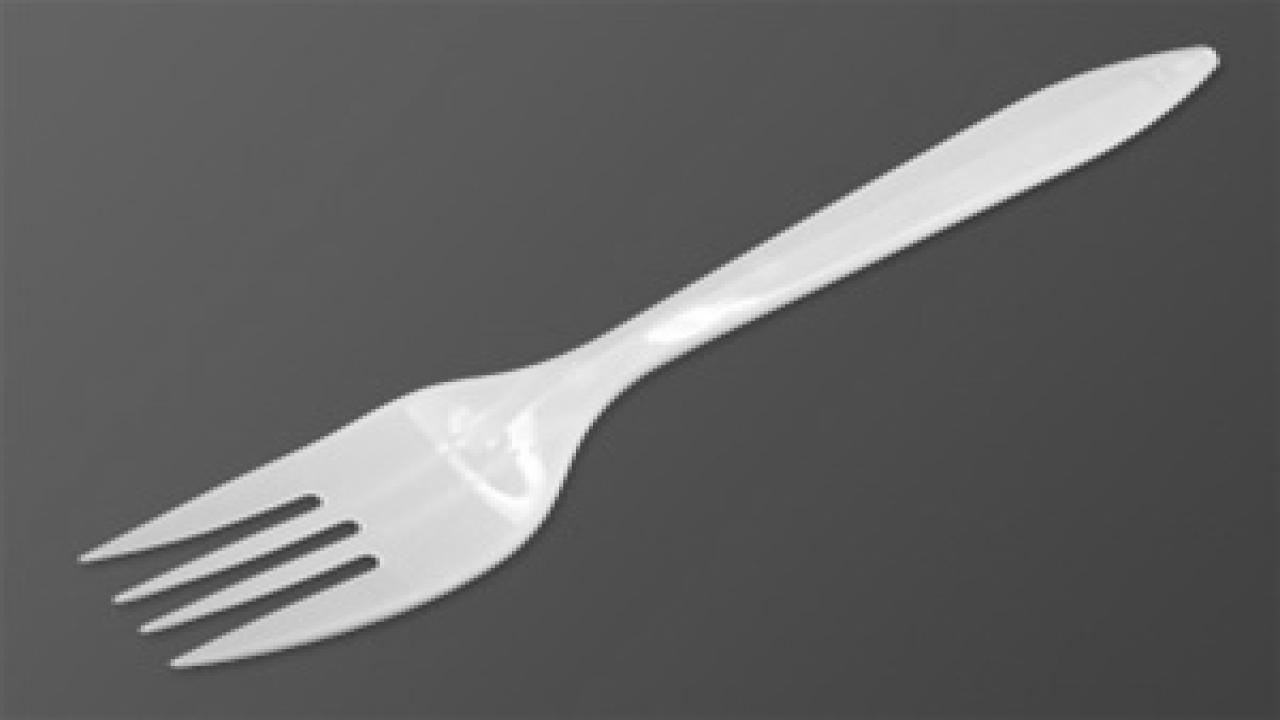fork: (73, 41, 1220, 669)
